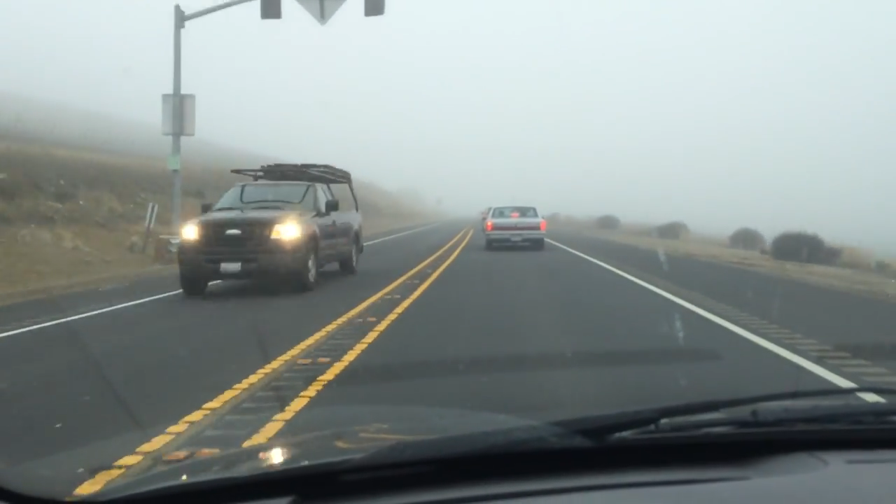car: (175, 161, 365, 295), (481, 204, 548, 247), (479, 204, 515, 231)
